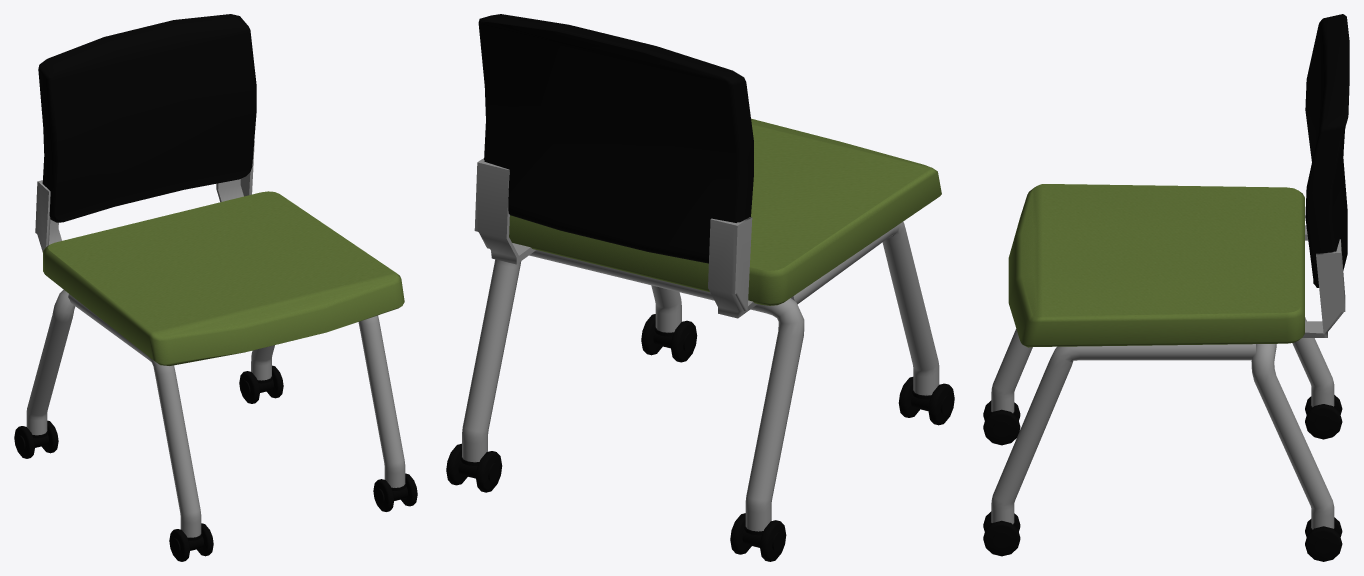
File: LC_3162_ChairJ_LOD1.fbx
The picture shows the model from 3 angles, left to right: view 1: azimuth 30°, elevation 25°; view 2: azimuth 150°, elevation 25°; view 3: azimuth 270°, elevation 25°; orthographic projection. The views are drawn at different scales.
Visible parts, largest first — view 1: LC_3162_ChairJ_3LOD; view 2: LC_3162_ChairJ_3LOD; view 3: LC_3162_ChairJ_3LOD.
Boxes of the visible parts, x1,y1,x2,y2 form: LC_3162_ChairJ_3LOD: (14,14,417,561); LC_3162_ChairJ_3LOD: (446,14,954,561); LC_3162_ChairJ_3LOD: (983,14,1349,561).
Bounding box in the file's own units: 64.69 × 94.06 × 71.73.
1 material, 1 textured.
